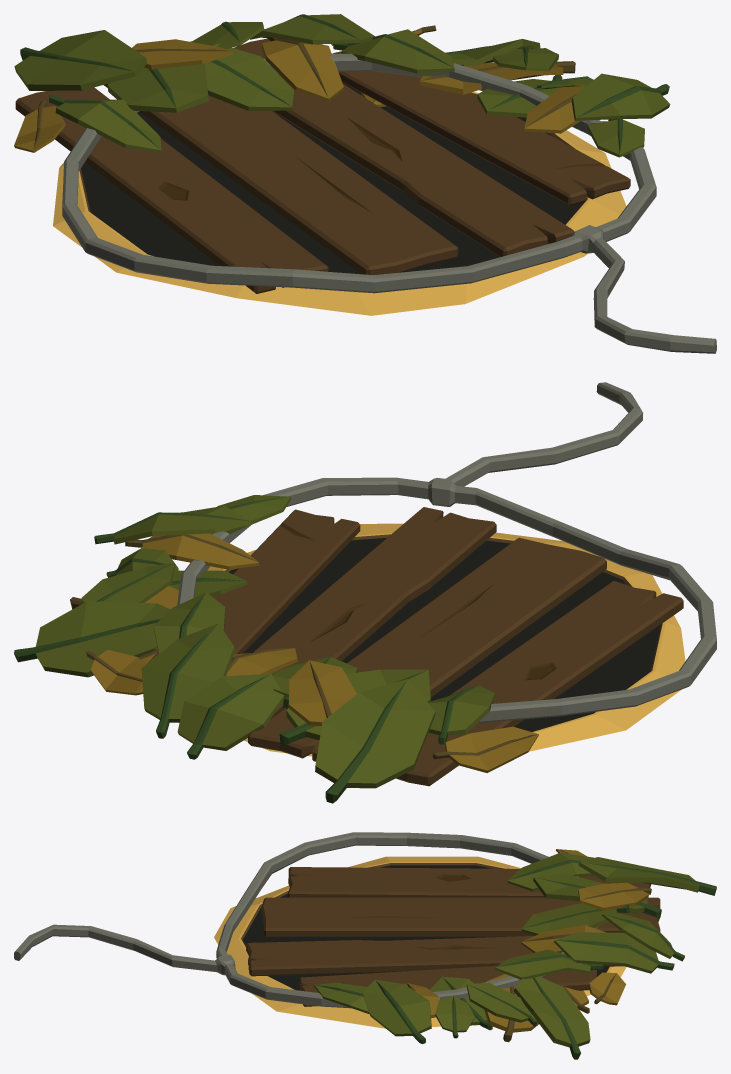
The model's file is trap2.fbx.
The picture shows the model from 3 angles, top to bottom: view 1: azimuth 30°, elevation 25°; view 2: azimuth 150°, elevation 25°; view 3: azimuth 270°, elevation 25°; orthographic projection. The views are drawn at different scales.
Visible parts, largest first — view 1: Cylinder, Cylinder.001; view 2: Cylinder, Cylinder.001; view 3: Cylinder, Cylinder.001.
Part boxes in pixels (bbox=[...]): Cylinder: bbox=[15, 38, 716, 353]; Cylinder.001: bbox=[14, 14, 670, 157]; Cylinder: bbox=[148, 382, 716, 786]; Cylinder.001: bbox=[14, 495, 538, 803]; Cylinder: bbox=[14, 832, 660, 1028]; Cylinder.001: bbox=[314, 849, 716, 1059].
Bounding box in the file's own units: 758 × 98.11 × 1076.
